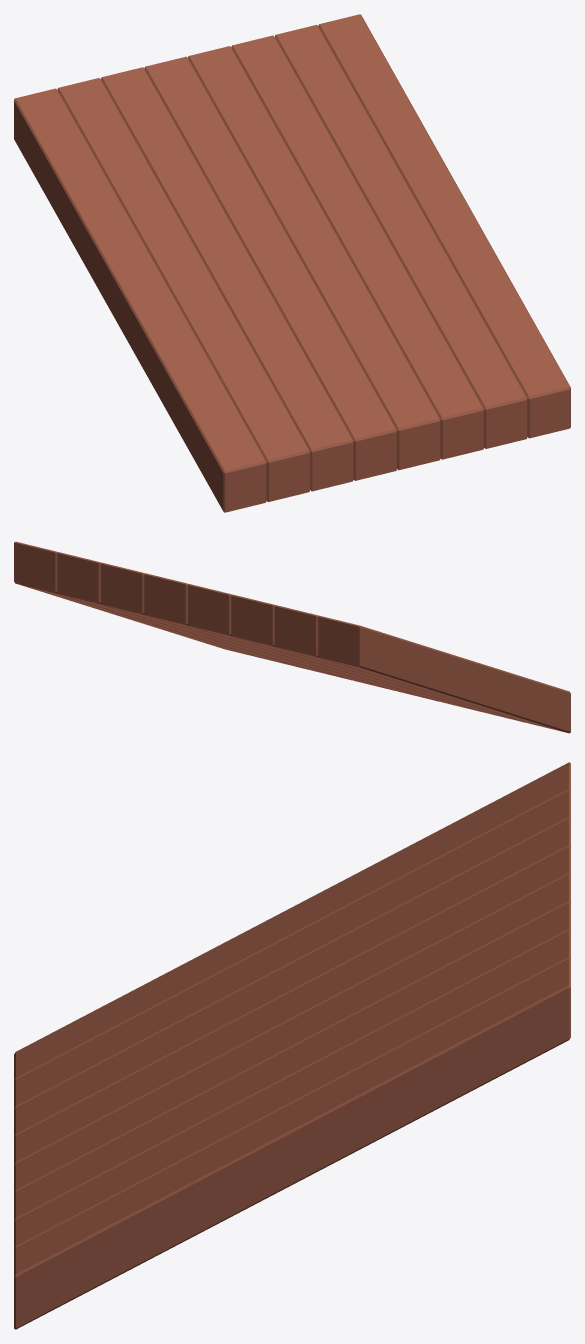
The model's file is SM_Roof_30.fbx.
The picture shows the model from 3 angles, top to bottom: view 1: azimuth 30°, elevation 25°; view 2: azimuth 150°, elevation 25°; view 3: azimuth 270°, elevation 25°; orthographic projection. The views are drawn at different scales.
Parts seen in each view (by area): view 1: SM_Roof_30; view 2: SM_Roof_30; view 3: SM_Roof_30.
Boxes of the visible parts, bbox=[...] form: SM_Roof_30: bbox=[14, 14, 570, 512]; SM_Roof_30: bbox=[14, 541, 570, 733]; SM_Roof_30: bbox=[14, 762, 570, 1329].
Bounding box in the file's own units: 2 × 1.44 × 2.1.
